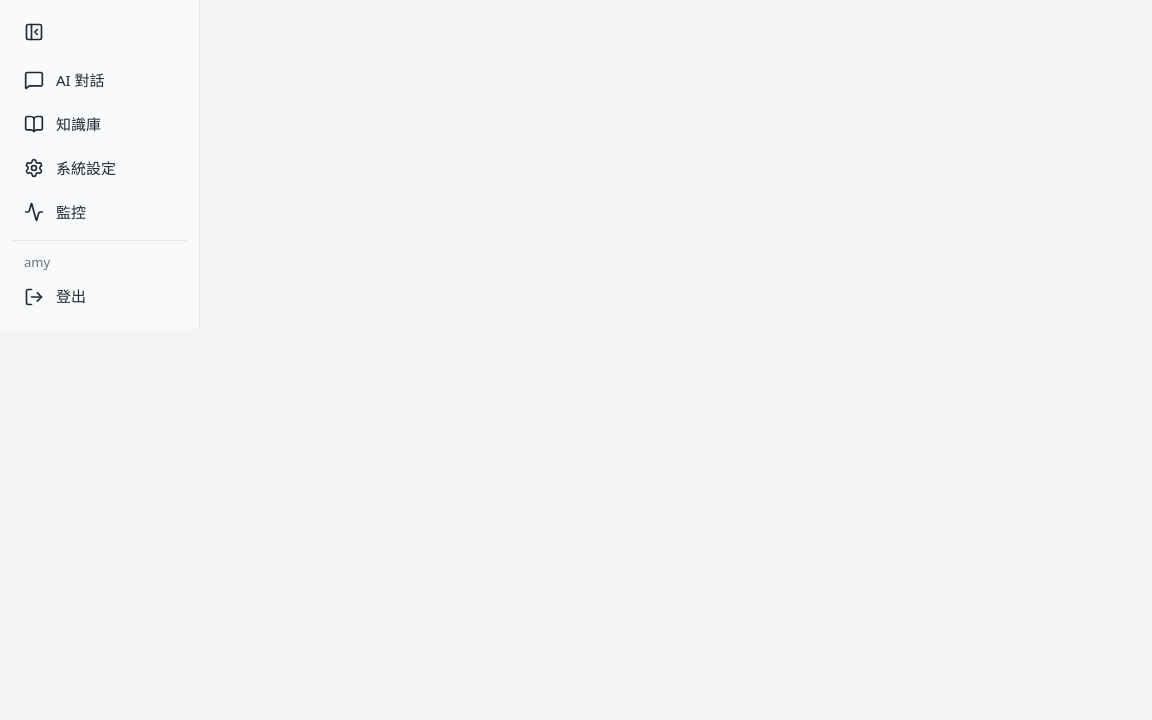
NavSidebar › asks before leaving when blocked
Click the link "AI 對話": (64, 80) x1=24 y1=70 x2=105 y2=90
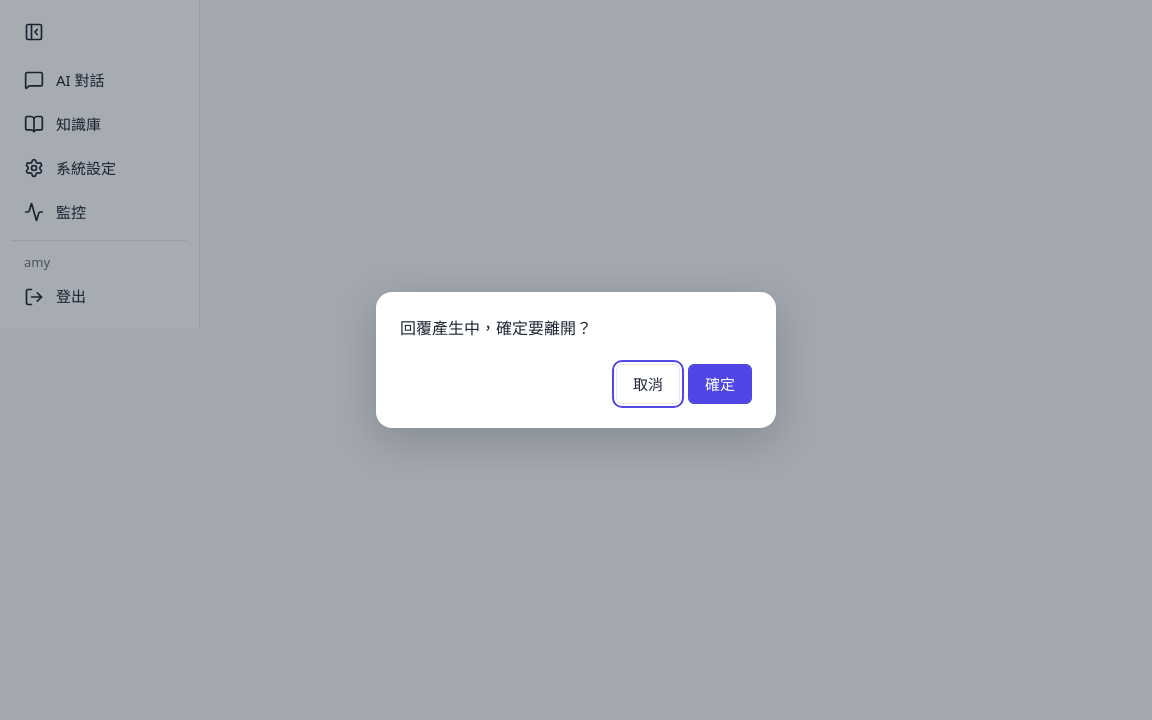
Check: the text "回覆產生中，確定要離開？" is shown, box x1=400 y1=317 x2=592 y2=339
Click the button "取消": (648, 384) x1=616 y1=364 x2=680 y2=404
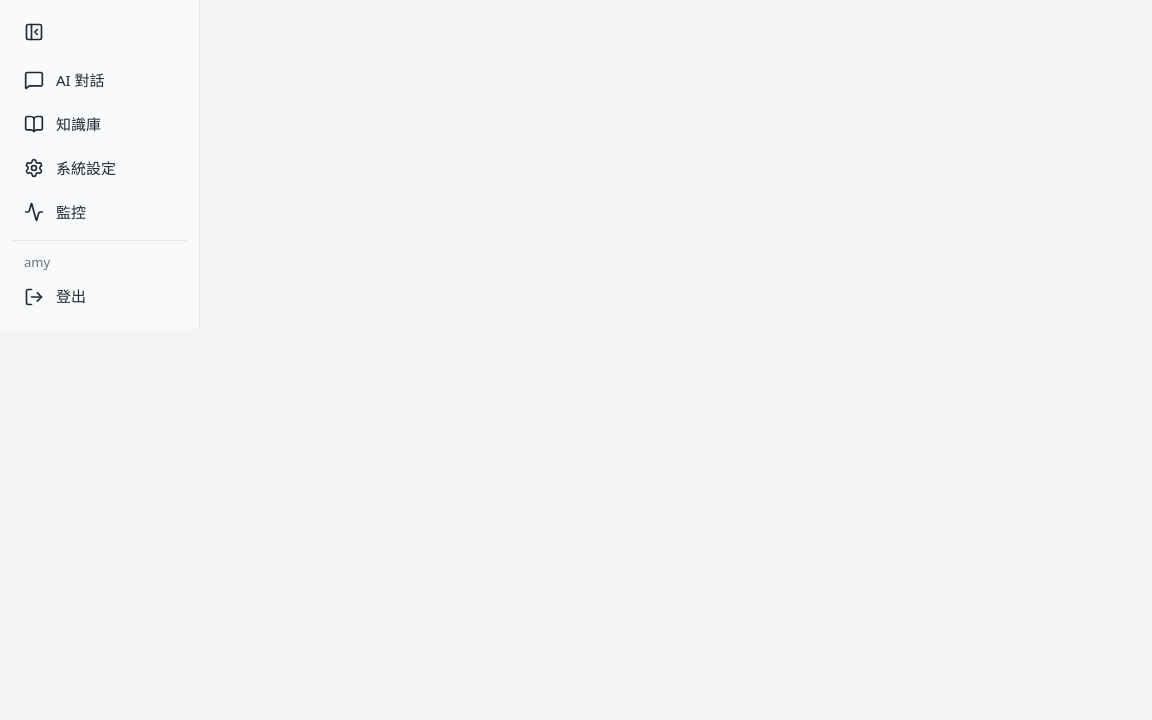
Check: the text "回覆產生中，確定要離開？" is gone
